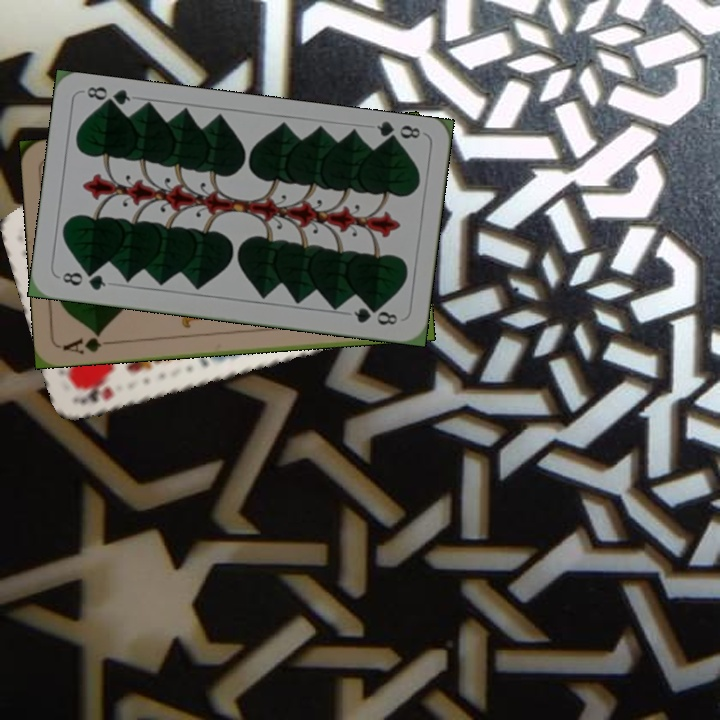G8: (373, 118, 423, 148), (58, 267, 109, 293)
GA: (59, 328, 118, 357)
HK: (76, 382, 116, 407)
